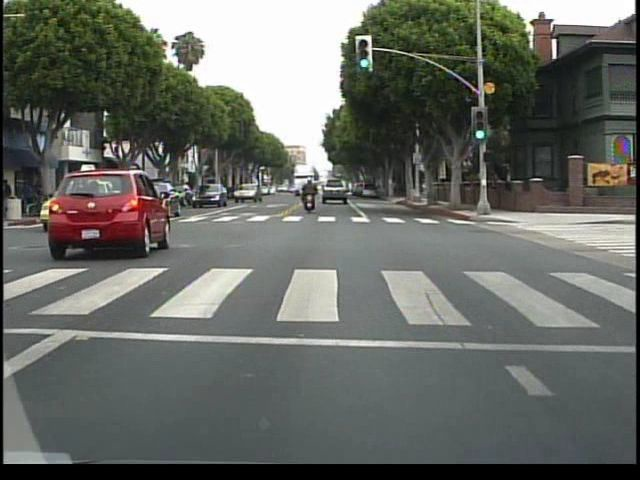person: (301, 176, 321, 220), (3, 177, 16, 222)
